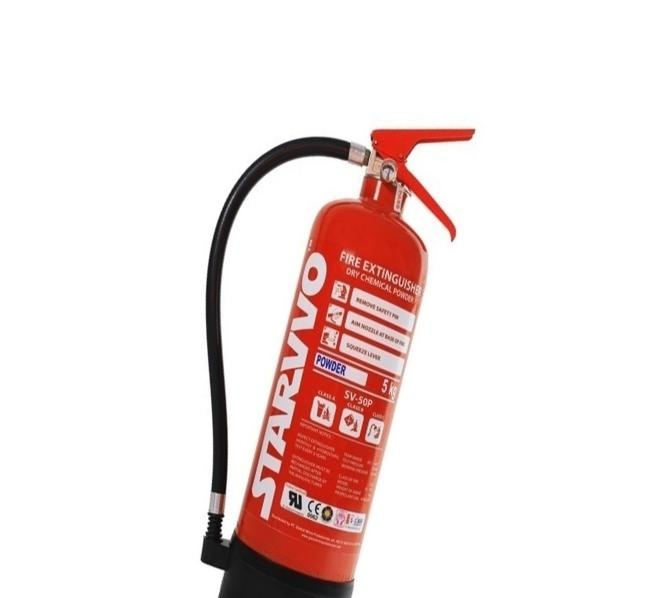fire_extinguisher: (200, 126, 476, 598)
